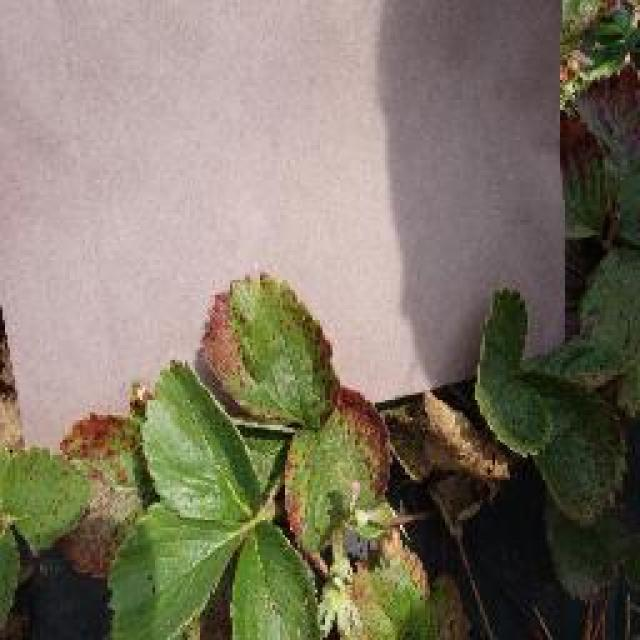Strawberry leaf scorch: (82, 278, 408, 538)
